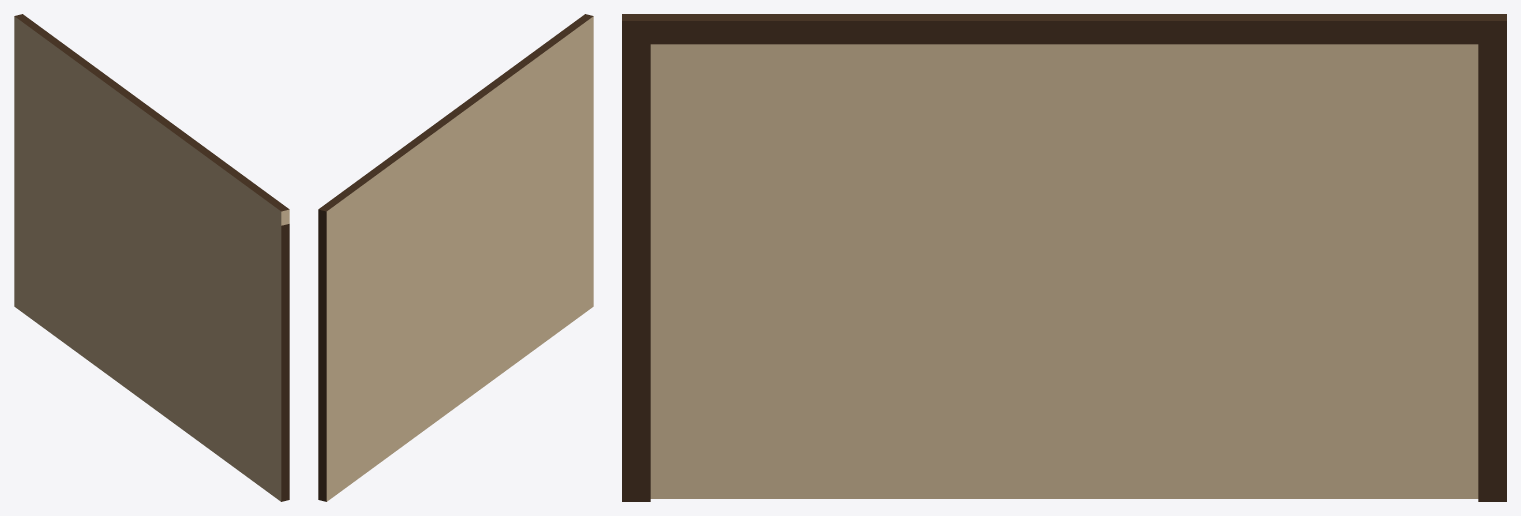
Rendered from Wall_Main_Hall.fbx.
3 renders of one model, left to right at view 1: azimuth 30°, elevation 25°; view 2: azimuth 150°, elevation 25°; view 3: azimuth 270°, elevation 25°, orthographic. The views are drawn at different scales.
Parts seen in each view (by area): view 1: Cube; view 2: Cube; view 3: Cube.
Boxes of the visible parts, x1,y1,x2,y2 form: Cube: (14, 14, 289, 501); Cube: (318, 14, 593, 501); Cube: (622, 14, 1506, 501).
Size of the model in its own units: 18.36 by 600 by 1000.
